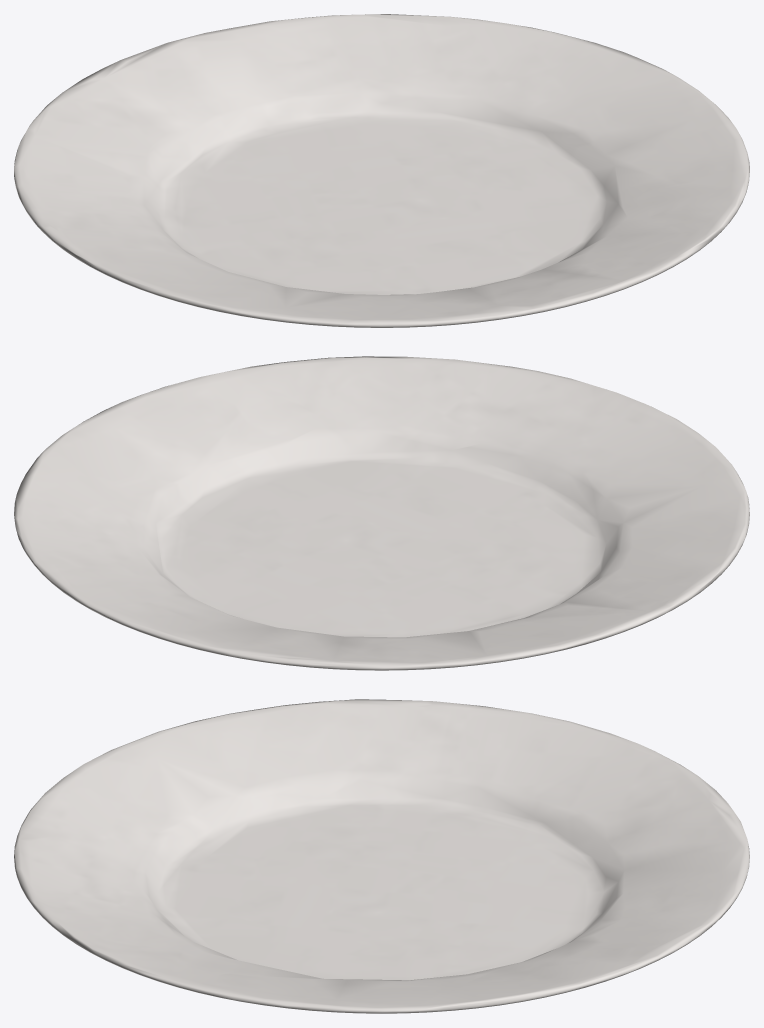
File: dishware_plate_a01.glb
3 renders of one model, top to bottom at view 1: azimuth 30°, elevation 25°; view 2: azimuth 150°, elevation 25°; view 3: azimuth 270°, elevation 25°, orthographic.
Visible parts, largest first — view 1: sm_dishware_plate_a01_01; view 2: sm_dishware_plate_a01_01; view 3: sm_dishware_plate_a01_01.
Part boxes in pixels (bbox=[...]): sm_dishware_plate_a01_01: bbox=[14, 14, 749, 327]; sm_dishware_plate_a01_01: bbox=[14, 356, 749, 670]; sm_dishware_plate_a01_01: bbox=[14, 699, 749, 1013].
Size of the model in its own units: 0.2674 by 0.0204 by 0.2675.
Materials: 1 (1 with a texture image).
